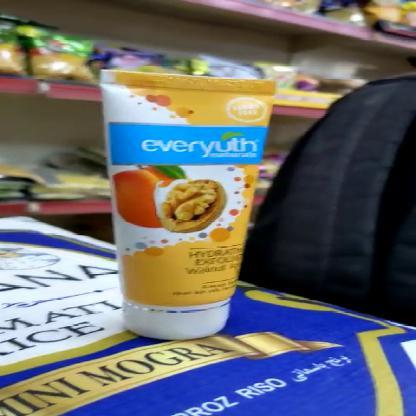EY HYD-EXF WALNT APR SCRUB AYR100G: (102, 72, 278, 339)
